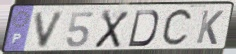5: (65, 10, 95, 49)
C: (159, 7, 195, 50)
D: (126, 9, 161, 48)
K: (194, 9, 225, 47)
V: (33, 10, 68, 50)
X: (92, 9, 131, 49)
